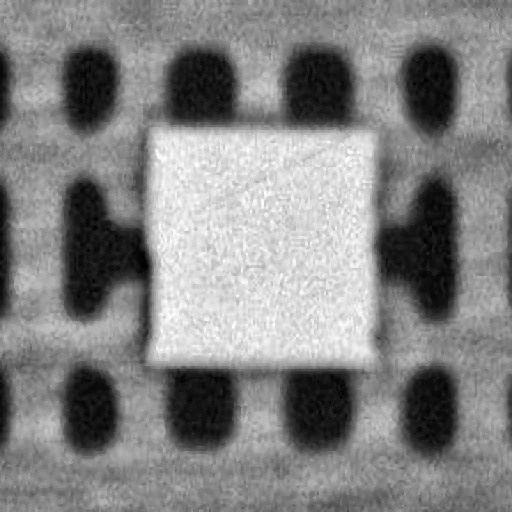DIE_CRACK: (294, 87, 512, 138)
